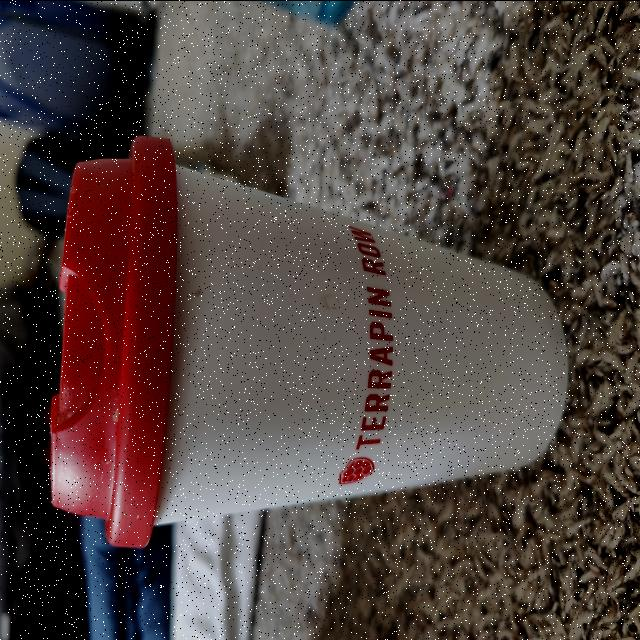mug: (47, 144, 555, 538)
